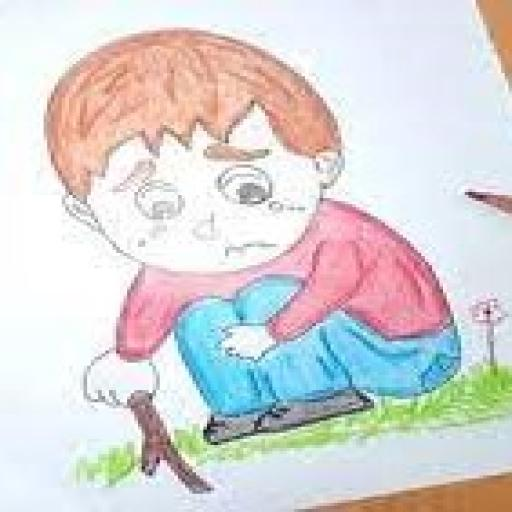person: (54, 25, 464, 446)
